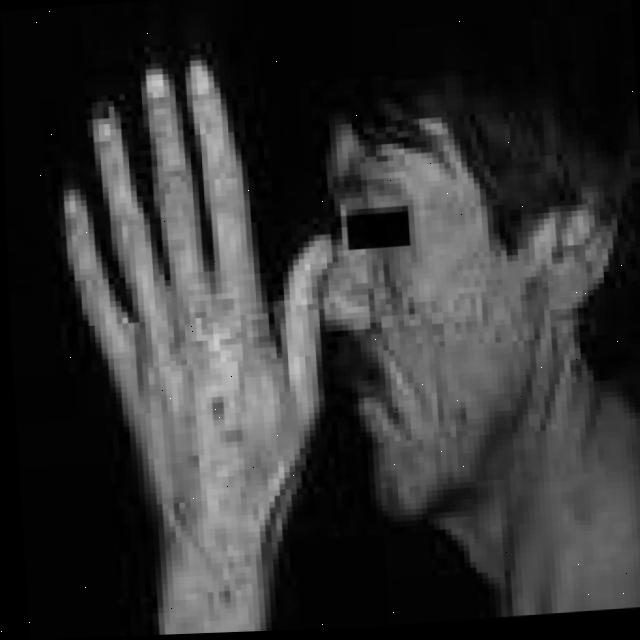Melasma: (142, 291, 256, 578), (429, 261, 515, 331)
